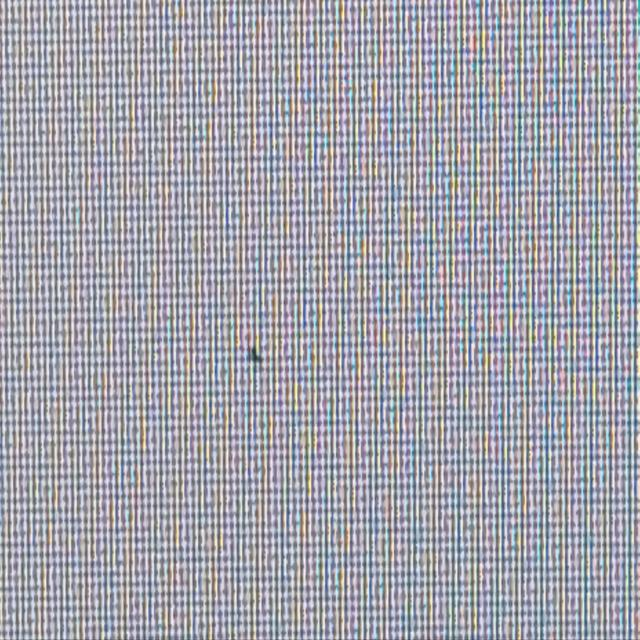Dead pixel: (251, 346, 263, 363)
